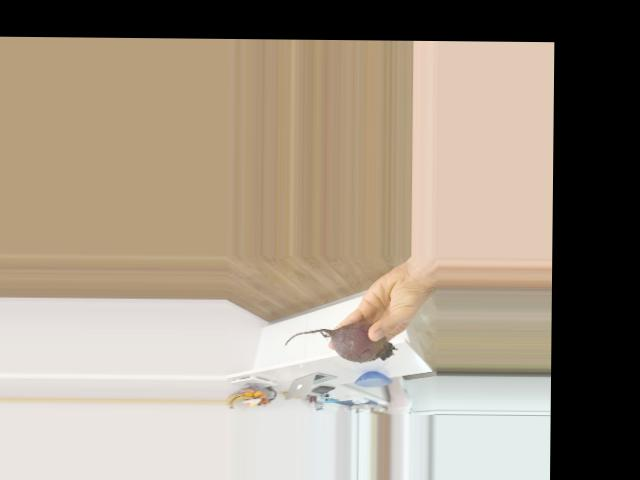beet: (284, 322, 396, 362)
